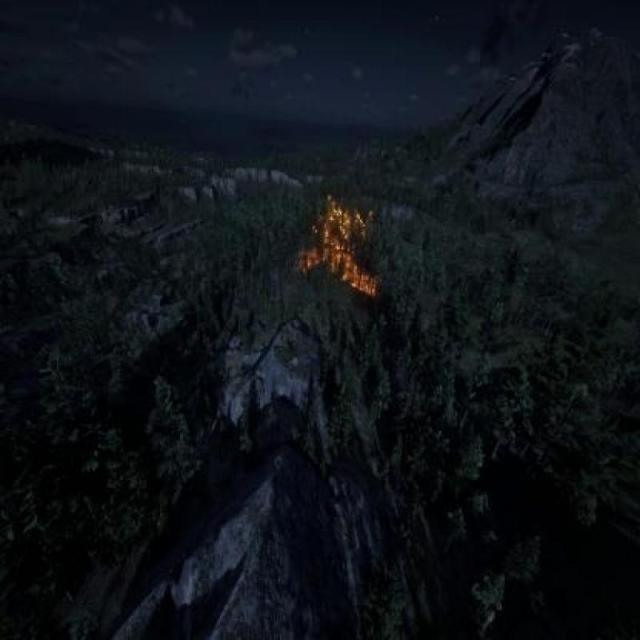Fire: (306, 196, 380, 304)
